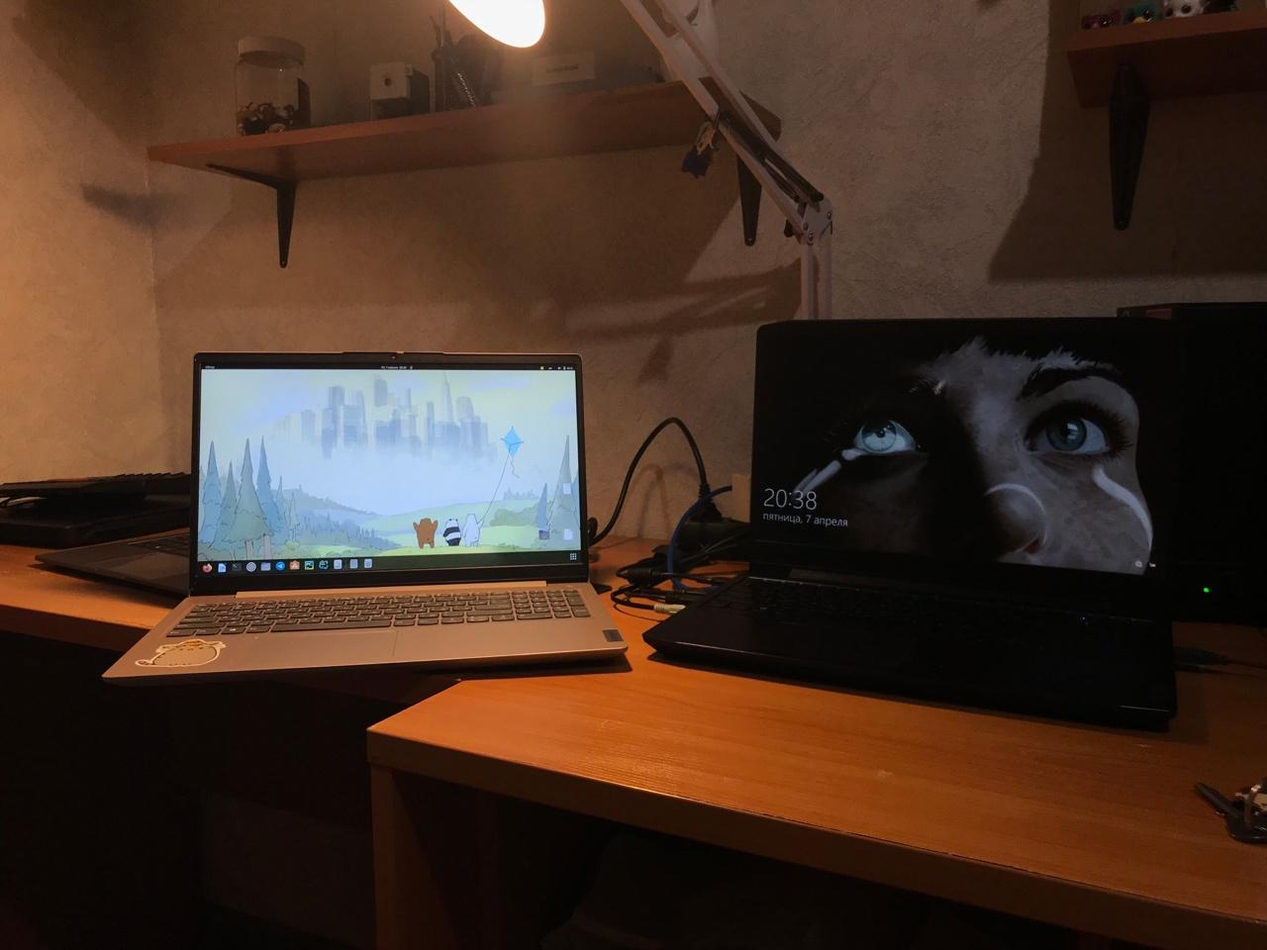monitor: (744, 308, 1198, 605), (185, 345, 587, 602)
